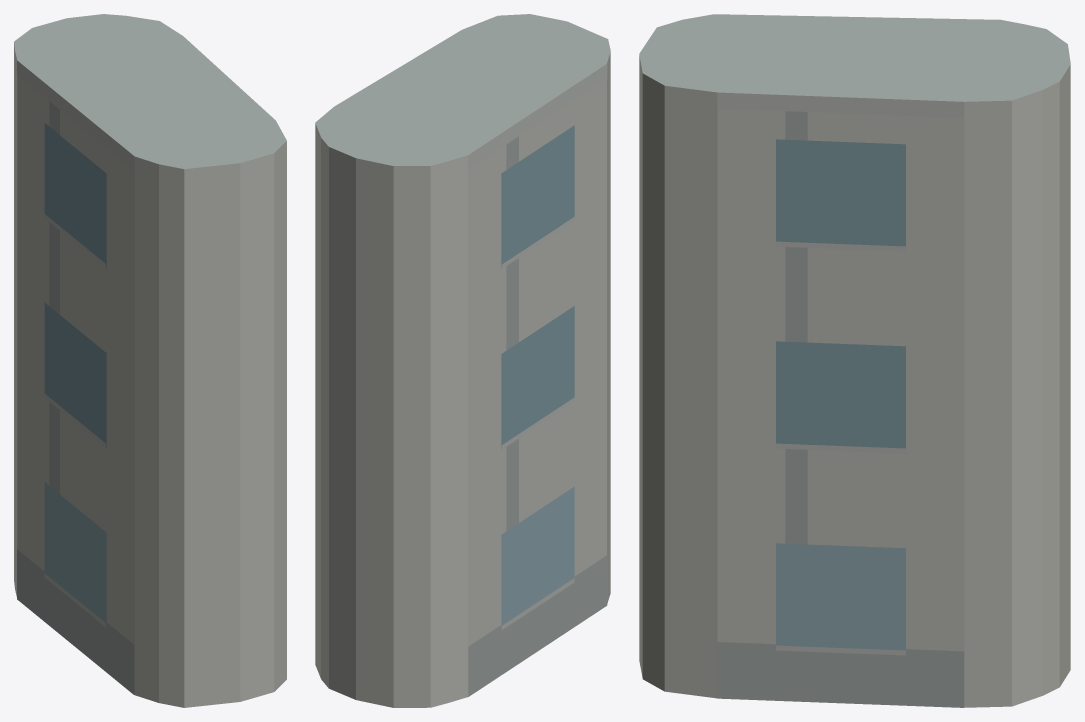
Rendered from survey-upis-32640403.glb.
3 views of the same model, side by side, from view 1: azimuth 30°, elevation 25°; view 2: azimuth 150°, elevation 25°; view 3: azimuth 270°, elevation 25° (orthographic). The views are drawn at different scales.
Visible parts, largest first — view 1: survey-upis-32640403.tmp; view 2: survey-upis-32640403.tmp; view 3: survey-upis-32640403.tmp.
Boxes of the visible parts, x1,y1,x2,y2 form: survey-upis-32640403.tmp: (14, 14, 286, 707); survey-upis-32640403.tmp: (315, 14, 610, 707); survey-upis-32640403.tmp: (639, 14, 1070, 707).
Size of the model in its own units: 2.85 by 9.15 by 5.91.
